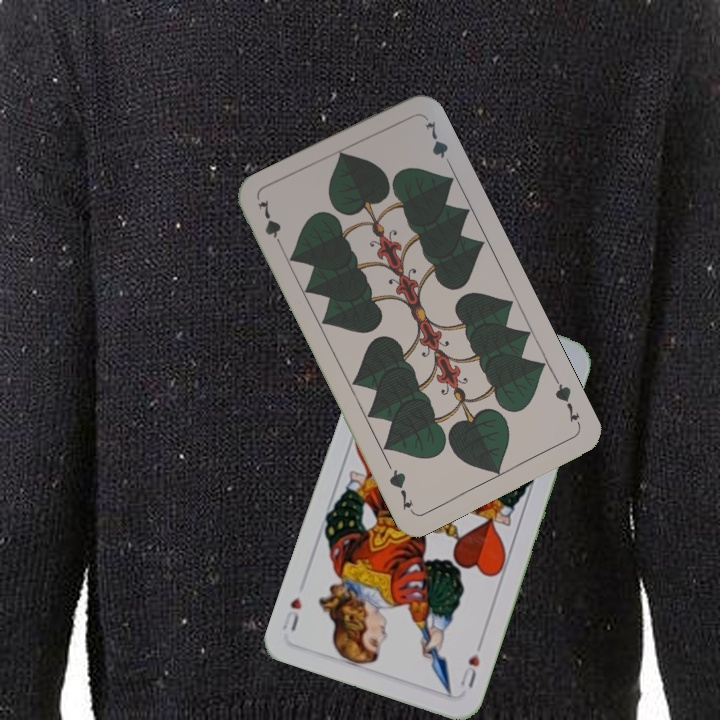G7: (253, 196, 287, 253), (551, 374, 584, 430)
HU: (456, 650, 483, 691)
